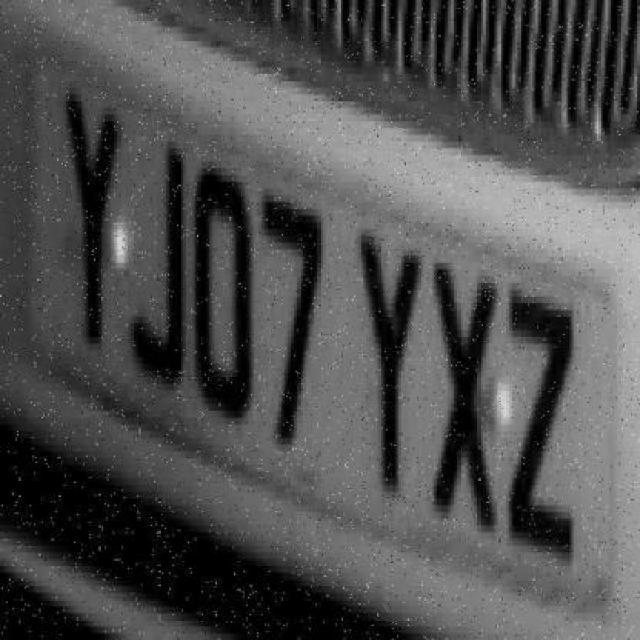licenseplate: (29, 40, 589, 605)
